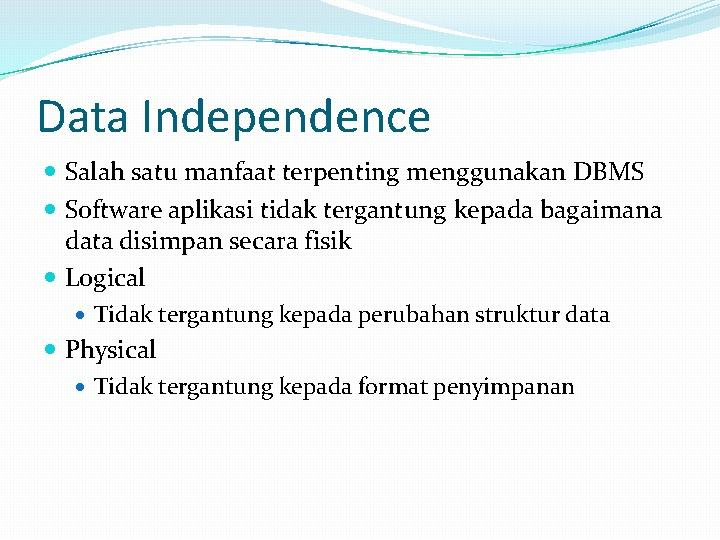paragraph: (37, 155, 671, 423)
title: (34, 85, 457, 146)
